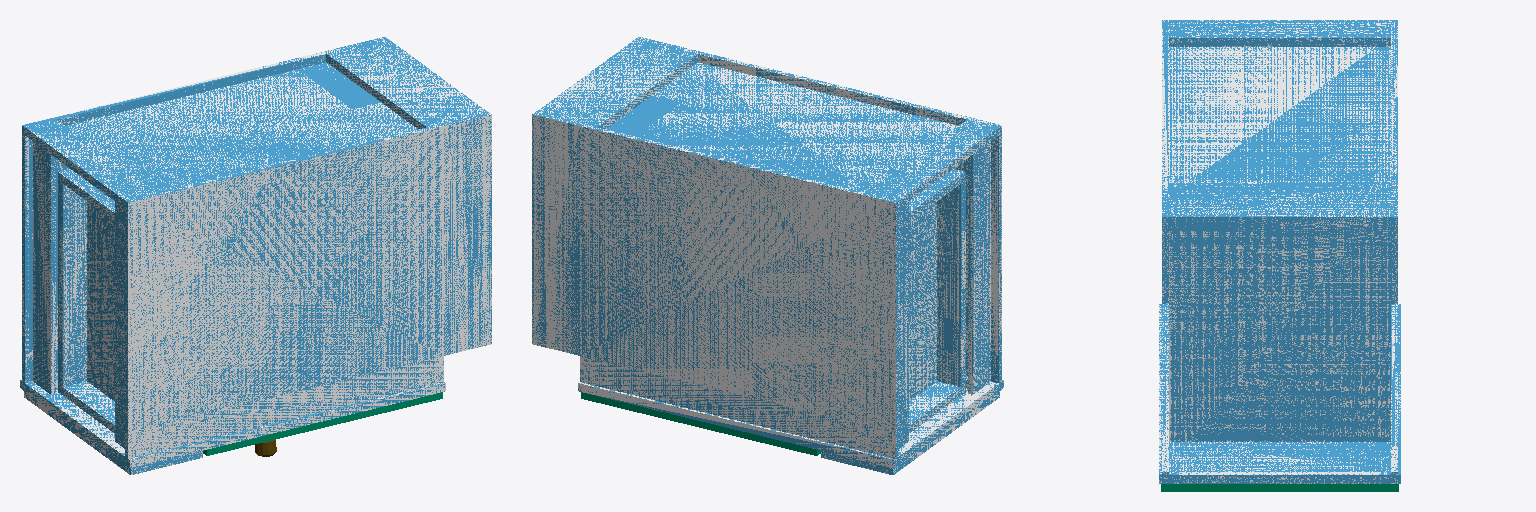
The robot description file, URDF, robot "right-pull-door":
<robot name="right-pull-door">
	<link name="base" />
	<link name="link_0">
		<visual name="out-frame">
			<origin xyz="0 0 0" />
			<geometry>
				<mesh filename="texture_dae/frame.dae" scale="0.8 0.8 0.8" />
			</geometry>
		</visual>
		<collision>
			<origin xyz="0 0 0" />
			<geometry>
				<mesh filename="texture_dae/frame.dae" scale="0.8 0.8 0.8" />
			</geometry>
		</collision>
	</link>
	<joint name="joint_0" type="fixed">
		<origin rpy="1.570796326794897 0 -1.570796326794897" xyz="0 0 0" />
		<child link="link_0" />
		<parent link="base" />
	</joint>
	<link name="link_1">
		<visual name="surf-board">
			<origin xyz="0.5817484855651855 -0.2446824552565545 0" />
			<geometry>
				<mesh filename="texture_dae/board.dae" scale="0.8 0.8 0.8" />
			</geometry>
		</visual>
		<collision>
			<origin xyz="0.5817484855651855 -0.2446824552565545 0" />
			<geometry>
				<mesh filename="texture_dae/board.dae" scale="0.8 0.8 0.8" />
			</geometry>
		</collision>
	</link>
	<joint name="joint_1" type="revolute">
		<origin xyz="-0.5817484855651855 0.2446824552565545 0" />
		<axis xyz="0 -1 0" />
		<child link="link_1" />
		<parent link="link_0" />
		<limit lower="0" upper="1.5079644737231006" />
	</joint>
	<link name="link_2">
		<visual name="handle">
			<origin xyz="0 0 0" />
			<geometry>
				<mesh filename="texture_dae/9962004.dae" scale="1.4094919557734131 1.4094919557734131 1.4094919557734131" />
			</geometry>
		</visual>
		<collision>
			<origin xyz="0 0 0" />
			<geometry>
				<mesh filename="texture_dae/9962004.dae" scale="1.4094919557734131 1.4094919557734131 1.4094919557734131" />
			</geometry>
		</collision>
	</link>
	<joint name="joint_2" type="revolute">
		<origin xyz="0.5817484855651855 -0.2446824552565545 0.013439838454067838" />
		<child link="link_2" />
		<parent link="link_1" />
		<axis xyz="0 0 1" />
		<limit lower="0" upper="0" />
	</joint>
</robot>

--- Render facts (derived) ---
Views: 3 orthographic renders of the robot side by side, from view 1: azimuth 30°, elevation 25°; view 2: azimuth 150°, elevation 25°; view 3: azimuth 270°, elevation 25°.
Model right-pull-door with 4 links and 3 joints (2 revolute, 1 fixed), rooted at base, posed every joint at zero.
Links seen in each view (by area): view 1: link_0, link_1; view 2: link_0, link_1; view 3: link_0, link_1.
Link boxes in pixels (<box>): link_0: <box>20,37,491,474</box>; link_1: <box>203,392,442,455</box>; link_0: <box>532,37,1003,474</box>; link_1: <box>581,392,820,455</box>; link_0: <box>1159,20,1400,483</box>; link_1: <box>1161,484,1398,491</box>.
Bounding box of the posed robot: 1.24 × 0.6481 × 0.9534 m (x, y, z).
3 mesh visuals loaded from 3 distinct referenced files (3 Collada DAE).
